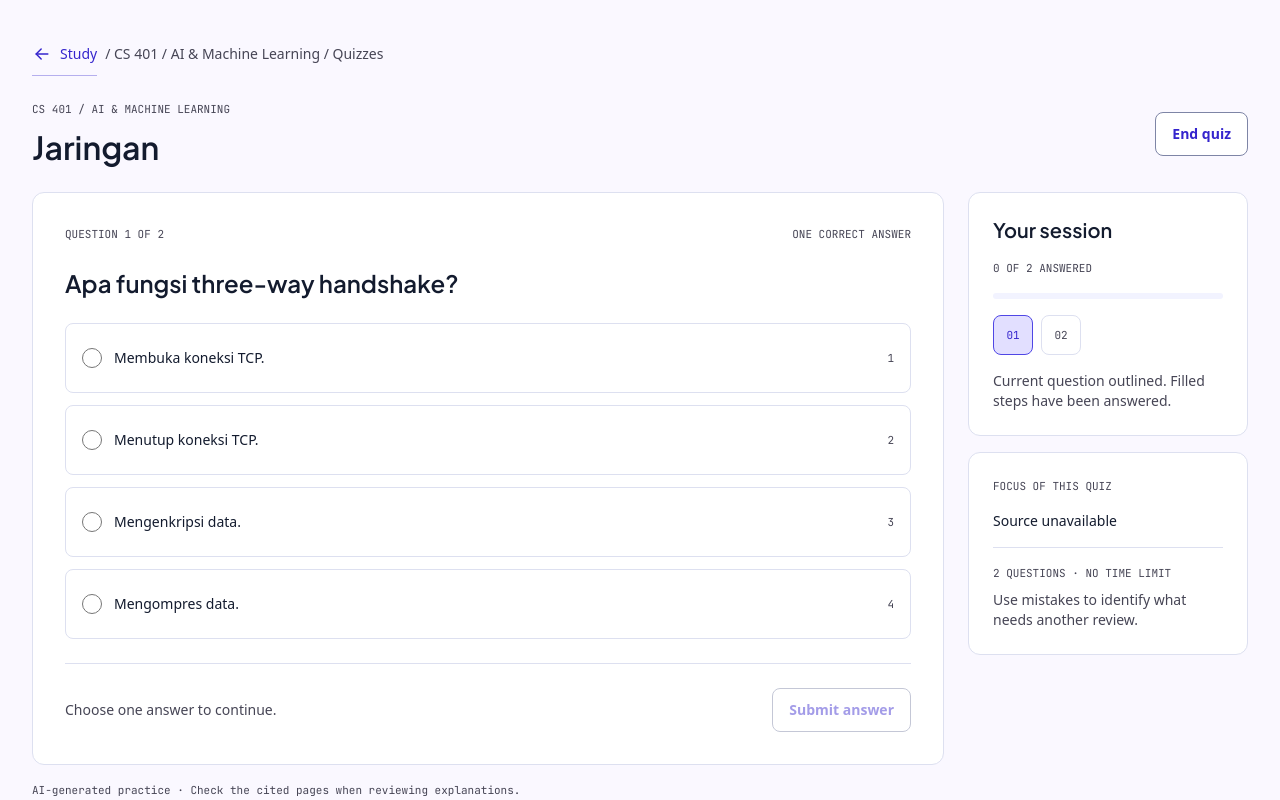
Test case: grading, per question kind › marks the chosen row with an icon and a word, not with colour alone
Click the radio button labelled "Membuka koneksi TCP. 1": (92, 358) top-left (82, 348), bottom-right (102, 368)
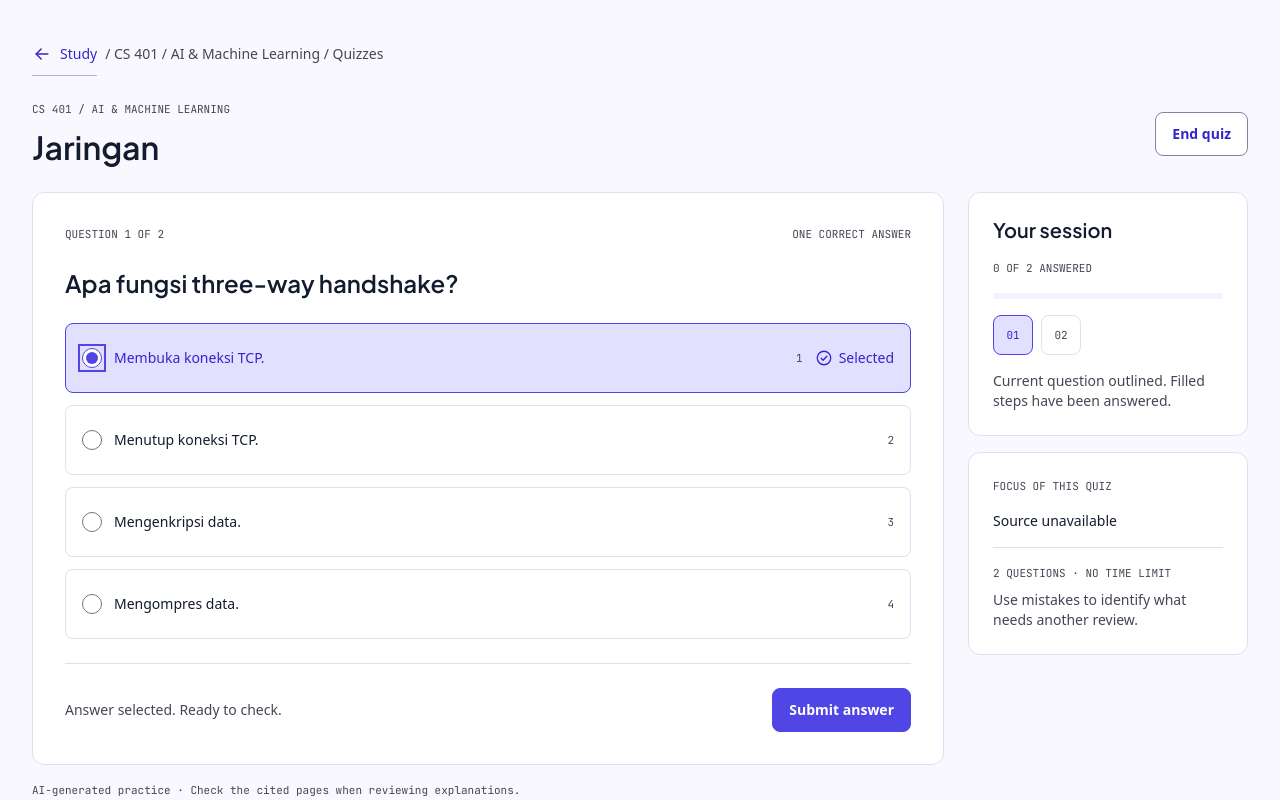
Result: the icon in the row of "Membuka koneksi TCP." is shown at top-left (815, 349), bottom-right (833, 367)
